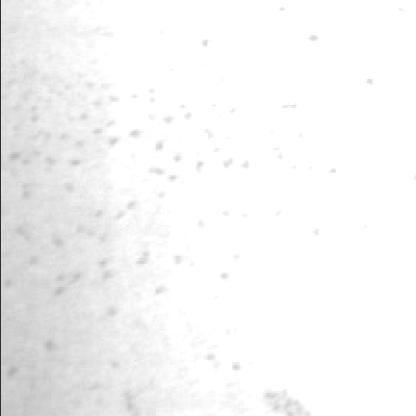pitted_surface: (4, 46, 416, 298), (6, 328, 316, 410)
